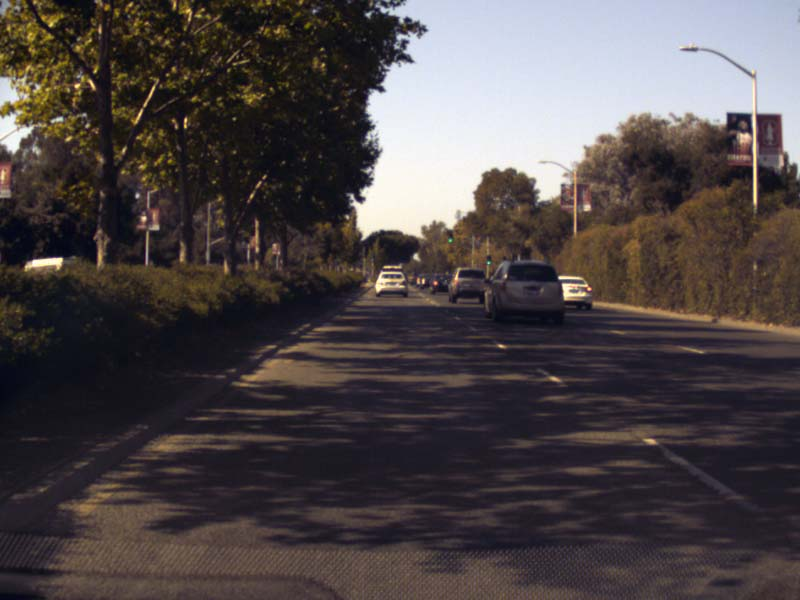Green: (445, 229, 453, 244), (485, 255, 491, 265), (370, 258, 373, 261)
